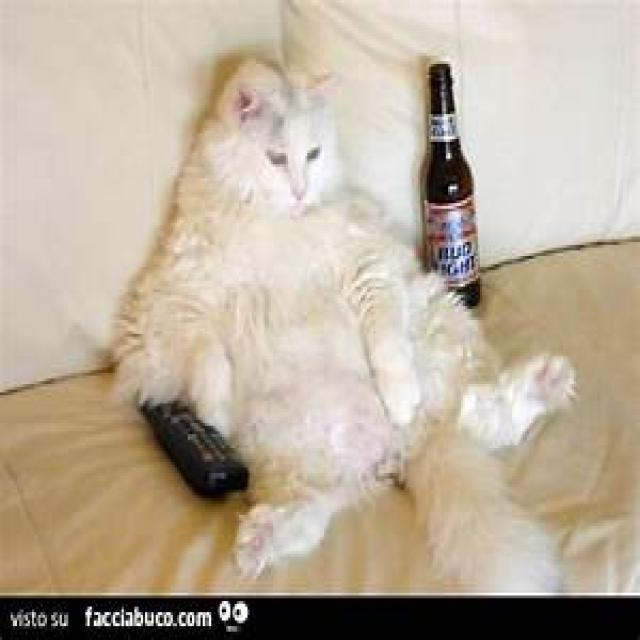animal: (107, 53, 578, 592)
